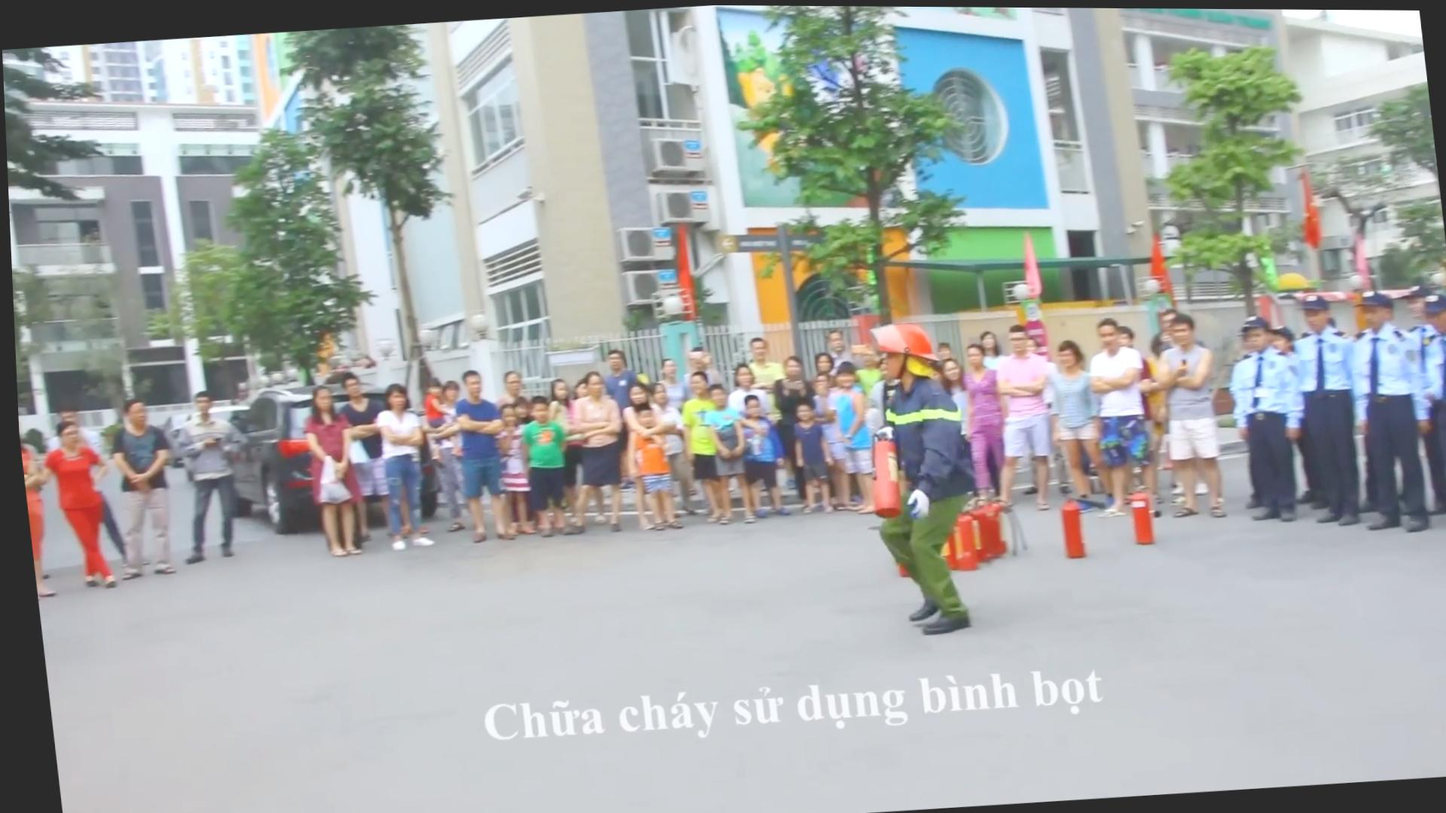FireExtinguisher: (855, 418, 905, 521), (968, 489, 1029, 572), (1047, 485, 1093, 566), (936, 506, 976, 575), (1122, 481, 1155, 551)
not: (743, 206, 927, 335), (38, 409, 114, 595), (295, 396, 366, 511), (951, 338, 1005, 489), (989, 311, 1043, 443), (15, 422, 51, 584), (617, 408, 676, 503), (1284, 154, 1328, 271), (665, 217, 711, 316), (1136, 217, 1180, 315), (875, 314, 940, 372), (270, 414, 314, 495), (1350, 221, 1376, 294), (411, 375, 446, 426)
